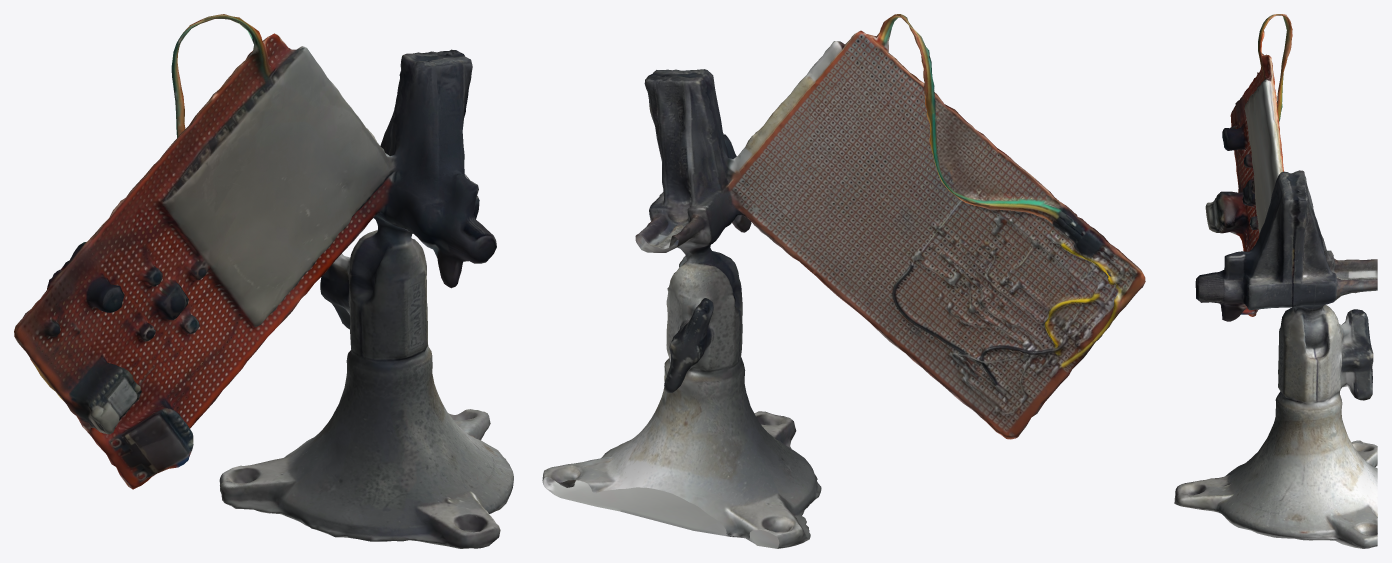
Rendered from 3DModel.obj.
The picture shows the model from 3 angles, left to right: view 1: azimuth 30°, elevation 25°; view 2: azimuth 150°, elevation 25°; view 3: azimuth 270°, elevation 25°; orthographic projection. The views are drawn at different scales.
Visible parts, largest first — view 1: submesh; view 2: submesh; view 3: submesh.
Part boxes in pixels (x1,y1,x2,y2): submesh: [14, 14, 513, 548]; submesh: [542, 14, 1145, 548]; submesh: [1174, 14, 1377, 548].
Size of the model in its own units: 0.2406 by 0.2232 by 0.0982.
